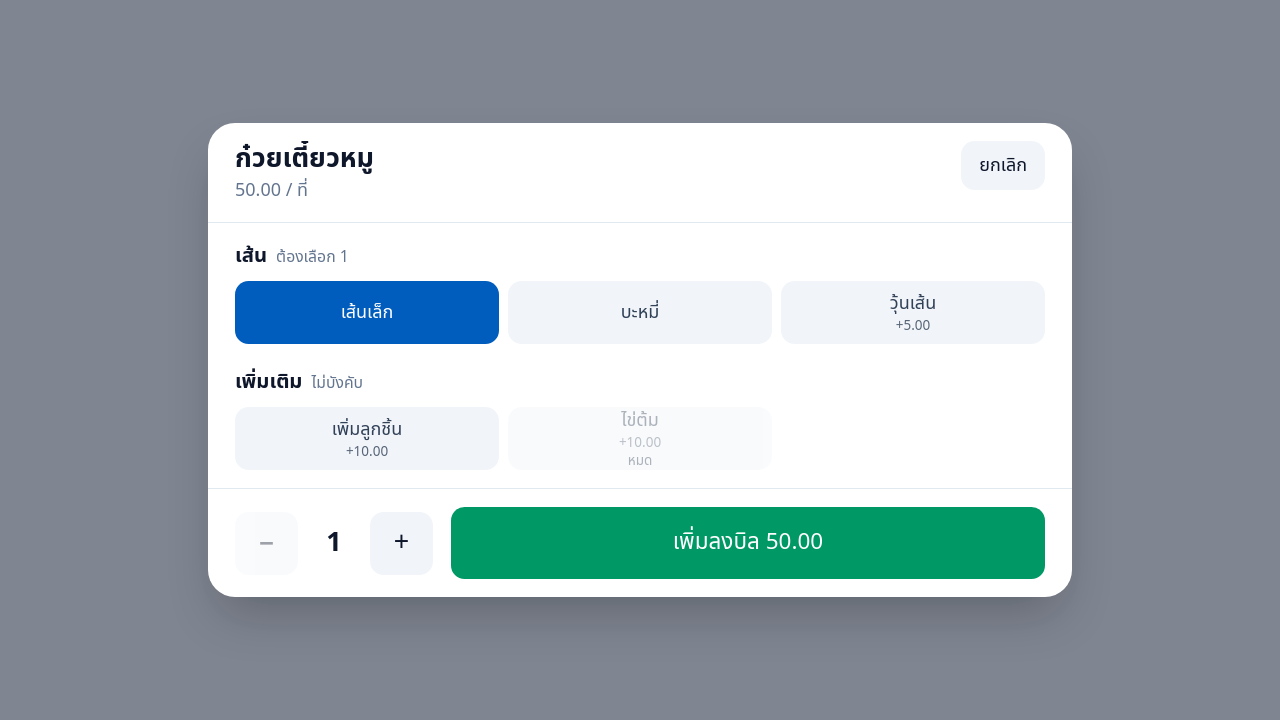
it: the fast path › shows the price the customer will be charged on the button
The image size is (1280, 720).
Expected: the button "เพิ่มลงบิล 50.00" is shown, [451, 507, 1045, 579]
Click the button "เพิ่มลูกชิ้น +10.00" at (367, 439), box [235, 407, 499, 470]
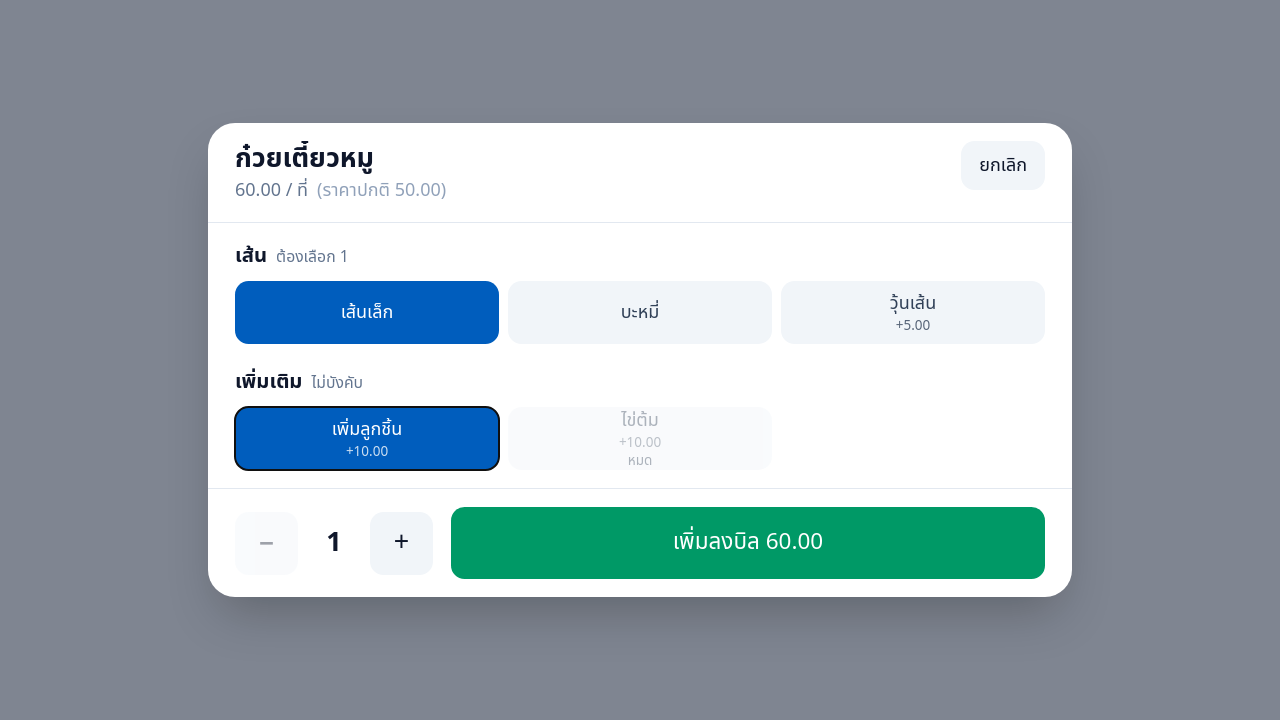
Now the button "เพิ่มลงบิล 60.00" is shown, box [451, 507, 1045, 579]
Click the button named "เพิ่มจำนวน" at (402, 543), box [370, 512, 433, 575]
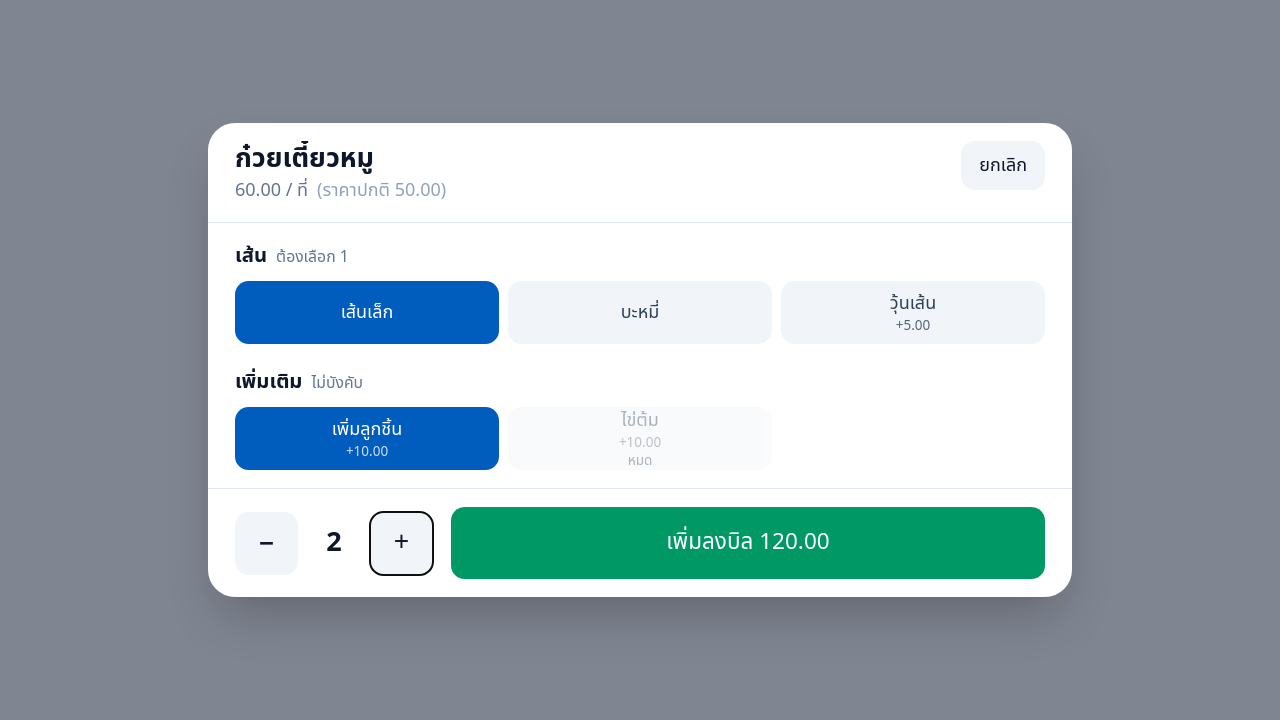
Now the button "เพิ่มลงบิล 120.00" is shown, box [451, 507, 1045, 579]
